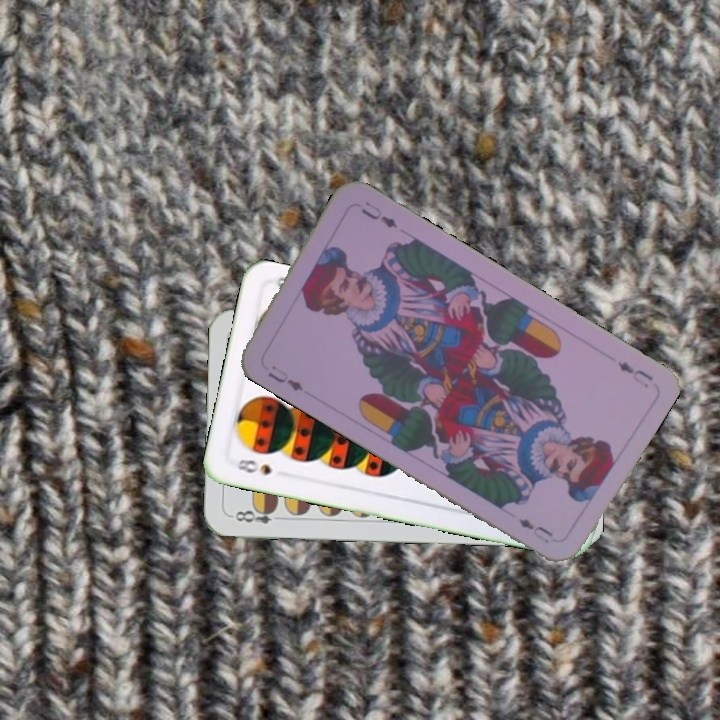E8: (228, 503, 287, 526)
EU: (263, 361, 306, 394), (614, 357, 656, 390)
S8: (232, 454, 274, 478)
